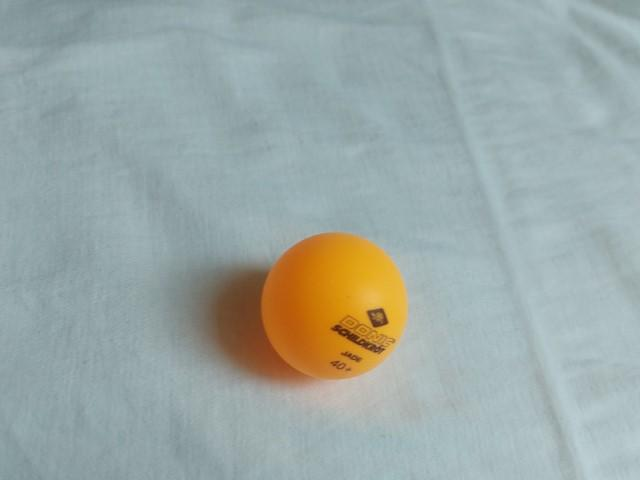oball: (255, 227, 417, 388)
